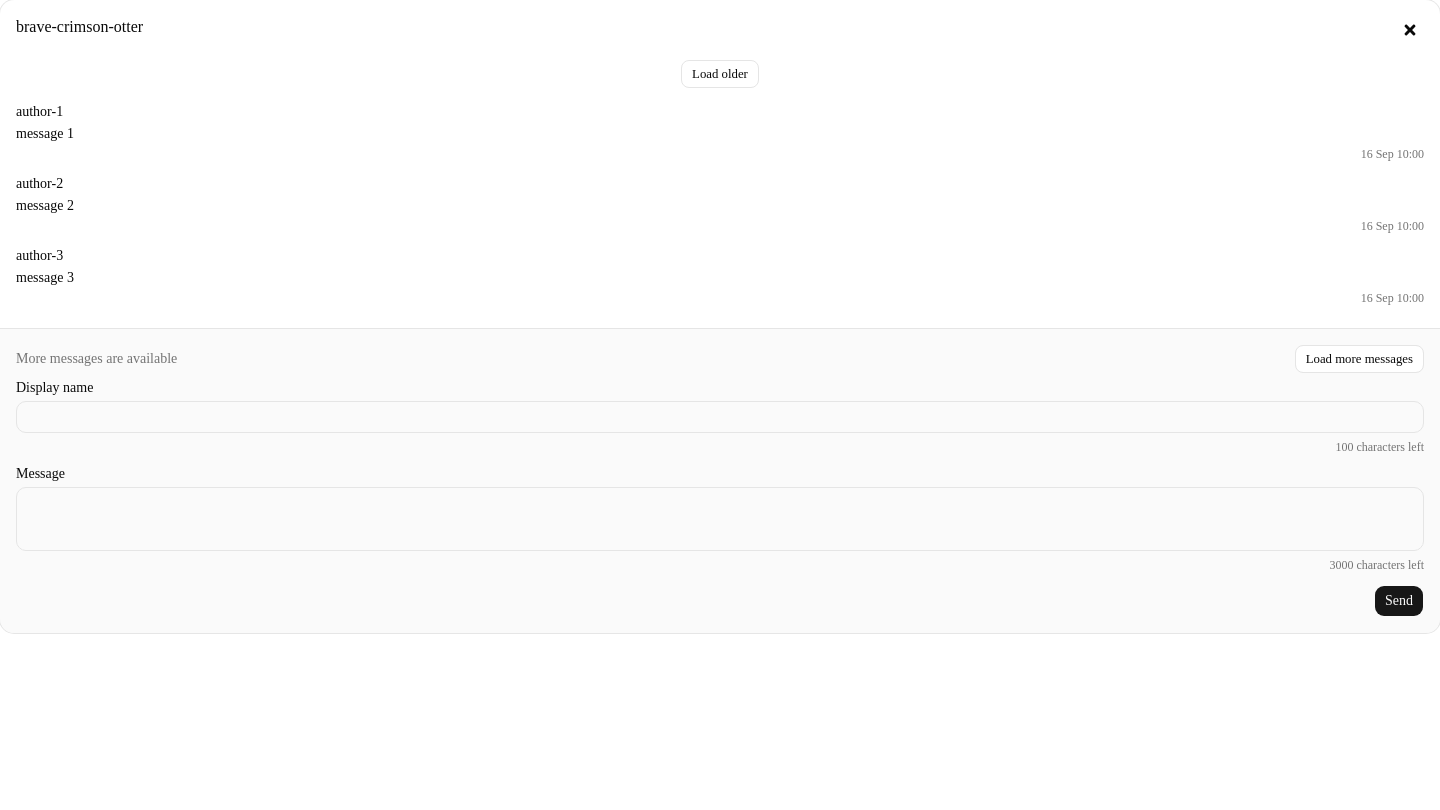
RoomPanel fetch errors › points at Load more messages when a backlog fetch fails
Click the button "Load more messages": (1359, 359) [1295,345,1424,373]
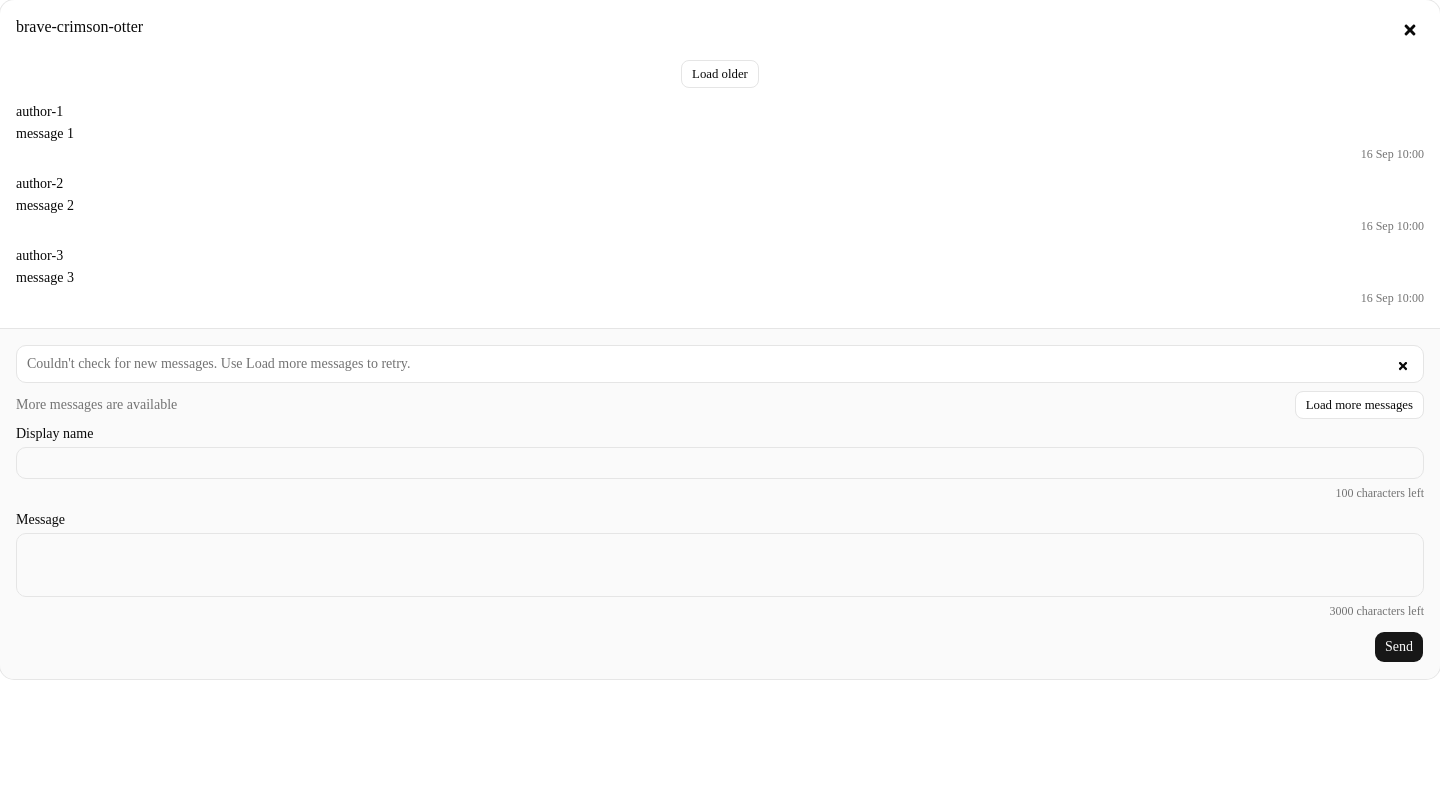
Check: the button "Load more messages" is enabled, box [1295,391,1424,419]
Check: the text "Couldn't check for new messages. Use Load more messages to retry." is shown, box [27,356,410,371]
